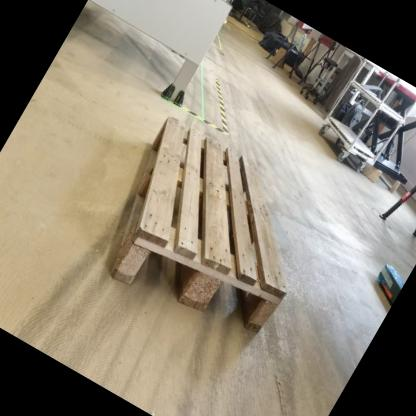BoxFace: (94, 110, 293, 344)
